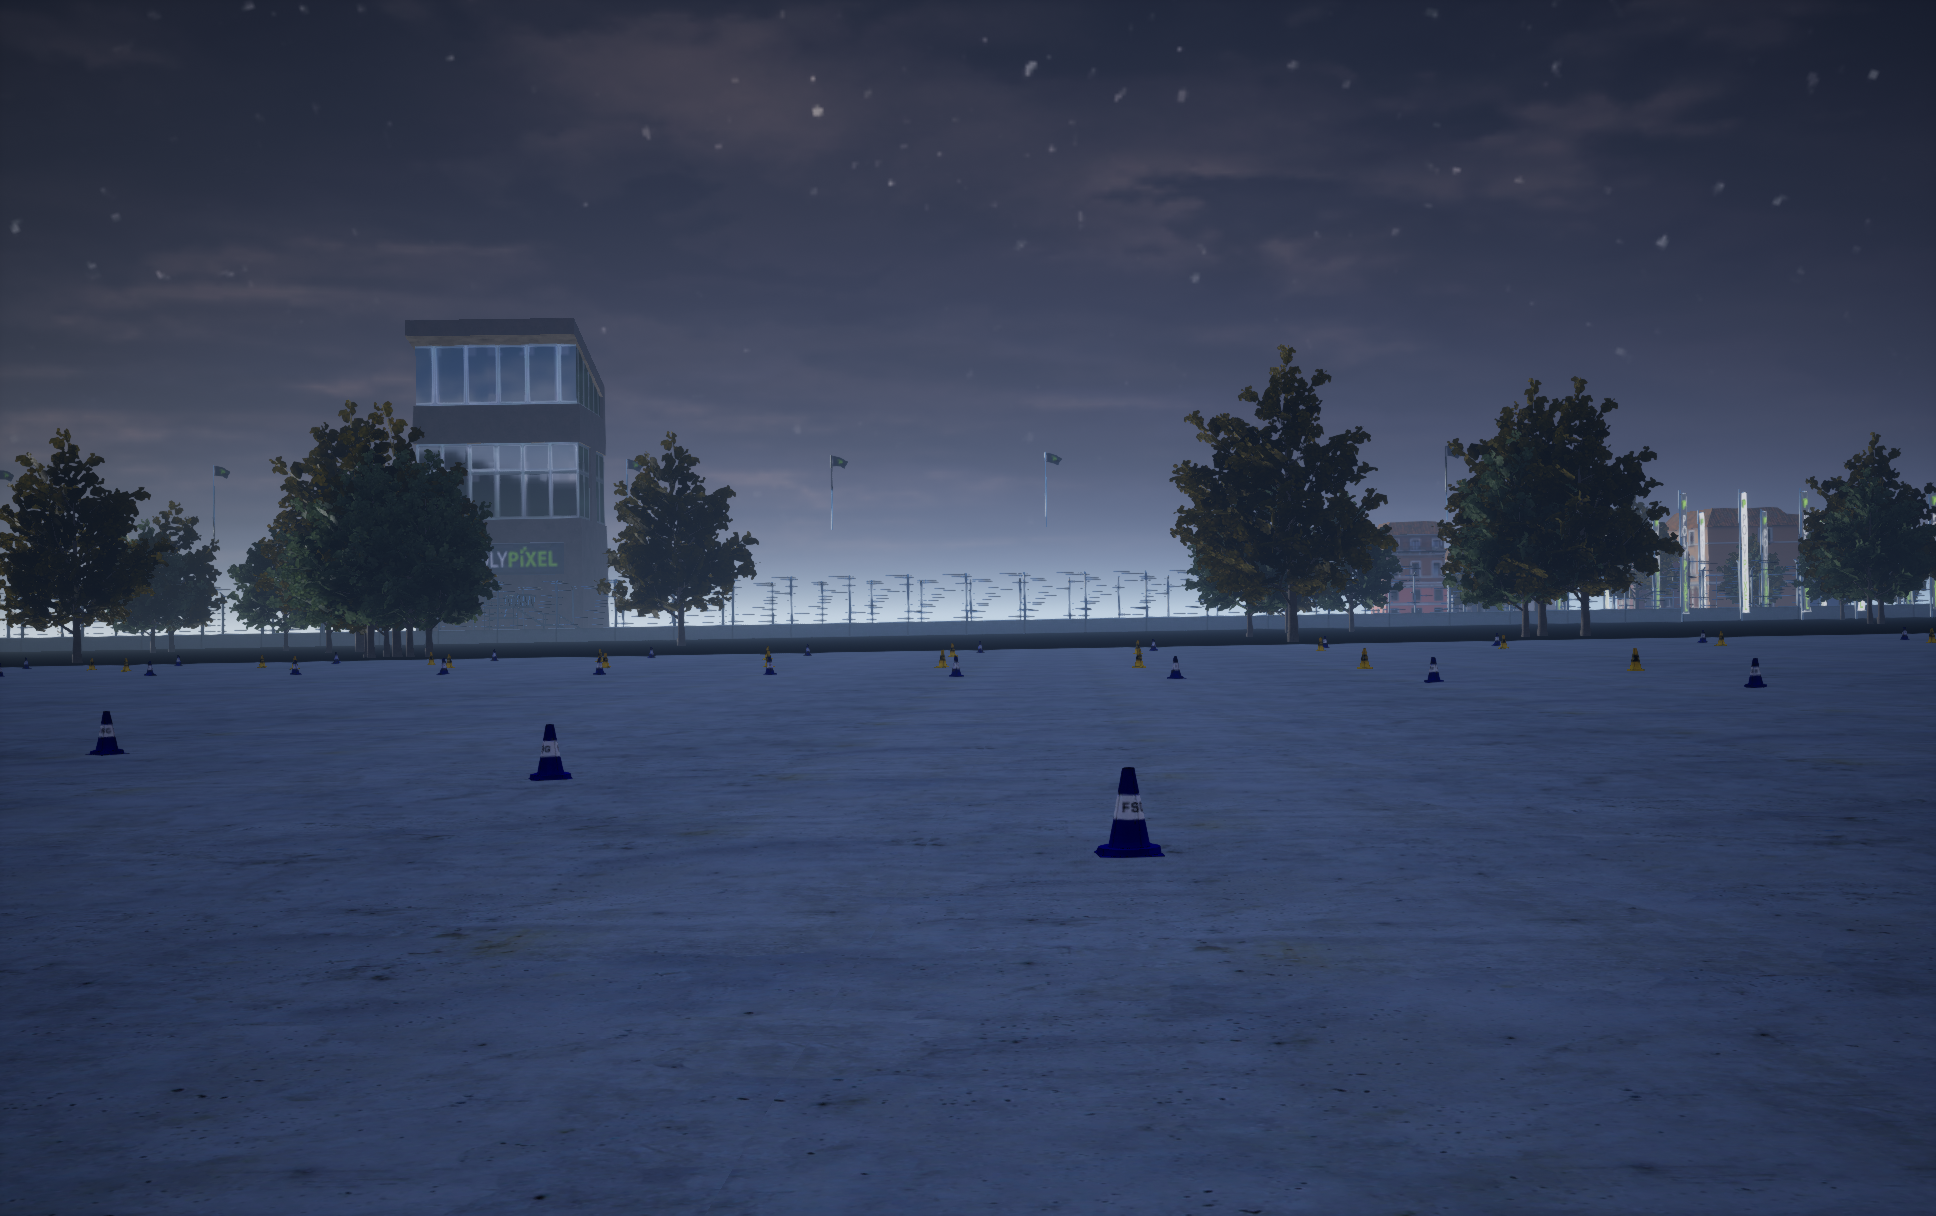blue: (1626, 649, 1645, 670), (1357, 649, 1371, 668), (1132, 649, 1145, 667)
yellow: (1094, 766, 1164, 857), (528, 724, 572, 780), (85, 712, 129, 755), (1744, 658, 1766, 686), (1425, 657, 1443, 682), (1167, 656, 1187, 678), (948, 656, 962, 677), (763, 657, 776, 674)
